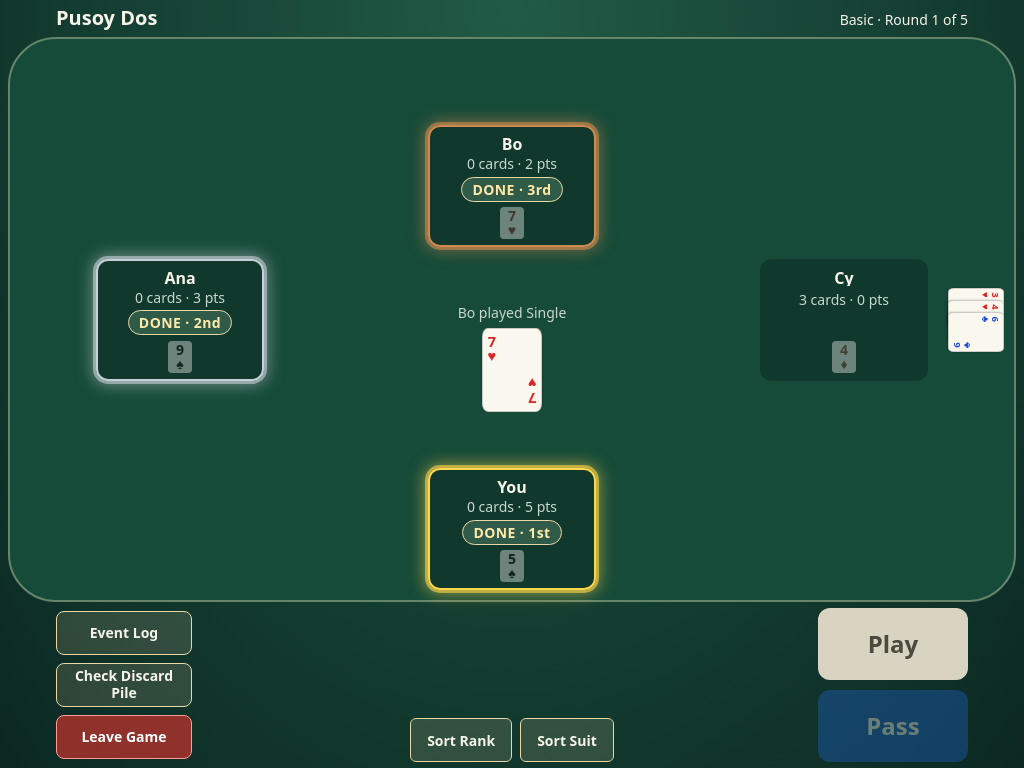
End-of-Round reveal and Round Result overlay (M4-T12; ui-ux.md §11-§12) › reveals the 4th-place bot hand face-up sorted by Rank, skippable by click, before the Round Result overlay appears
Click the button named "Skip reveal" at point(512, 384), box top-left (0, 0), bottom-right (1023, 767)
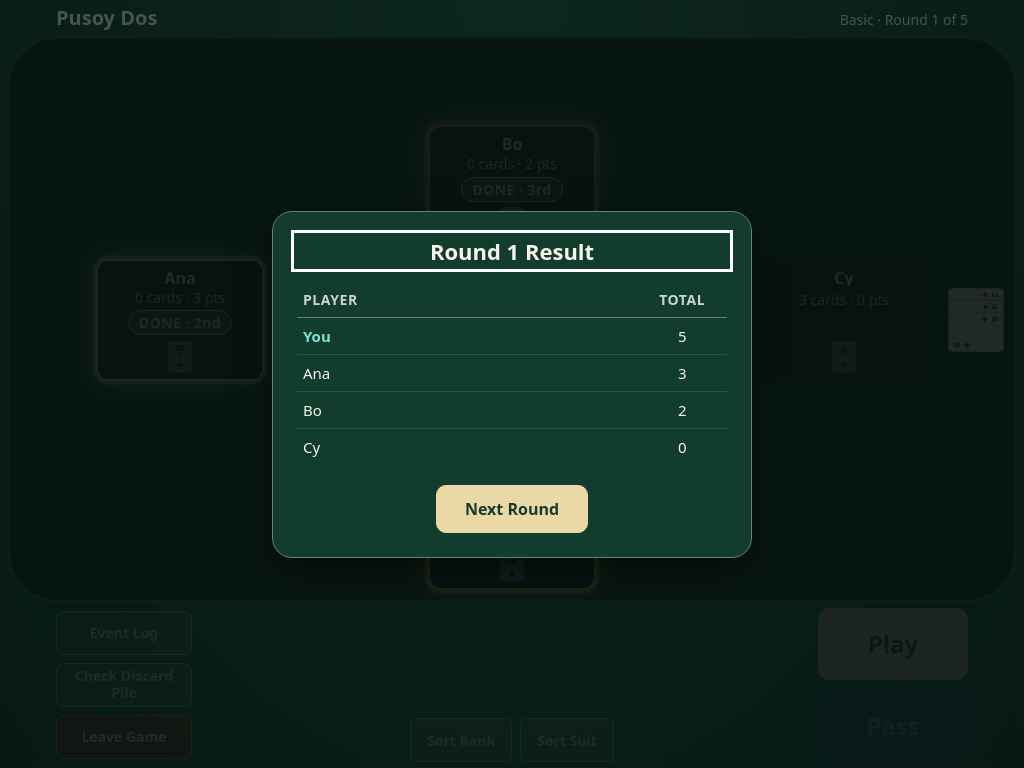
Check: the dialog is shown, box top-left (272, 210), bottom-right (752, 558)
